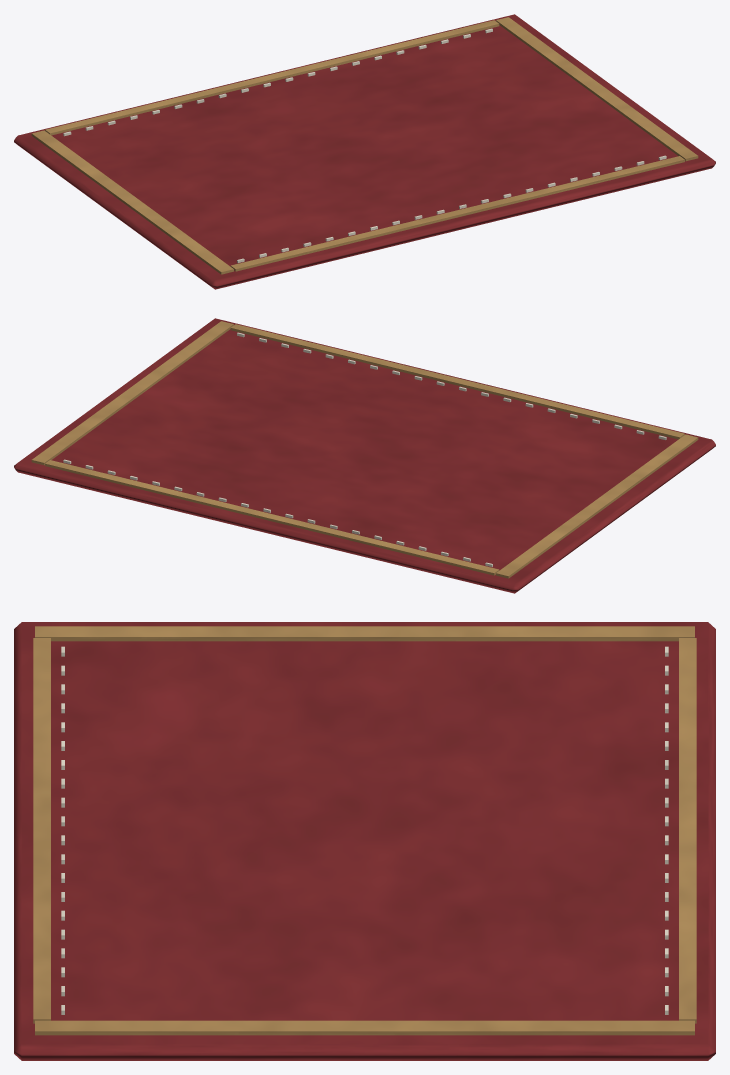
Rendered from Furn_TrainingMat.fbx.
3 renders of one model, top to bottom at view 1: azimuth 30°, elevation 25°; view 2: azimuth 150°, elevation 25°; view 3: azimuth 270°, elevation 25°, orthographic. The views are drawn at different scales.
Parts seen in each view (by area): view 1: Furn_TrainingMat_Mesh; view 2: Furn_TrainingMat_Mesh; view 3: Furn_TrainingMat_Mesh.
Boxes of the visible parts, x1,y1,x2,y2 form: Furn_TrainingMat_Mesh: [14, 14, 715, 289]; Furn_TrainingMat_Mesh: [14, 318, 715, 593]; Furn_TrainingMat_Mesh: [14, 622, 715, 1060].
Bounding box in the file's own units: 2.6 × 0.06 × 1.8.
3 materials, 3 textured.
